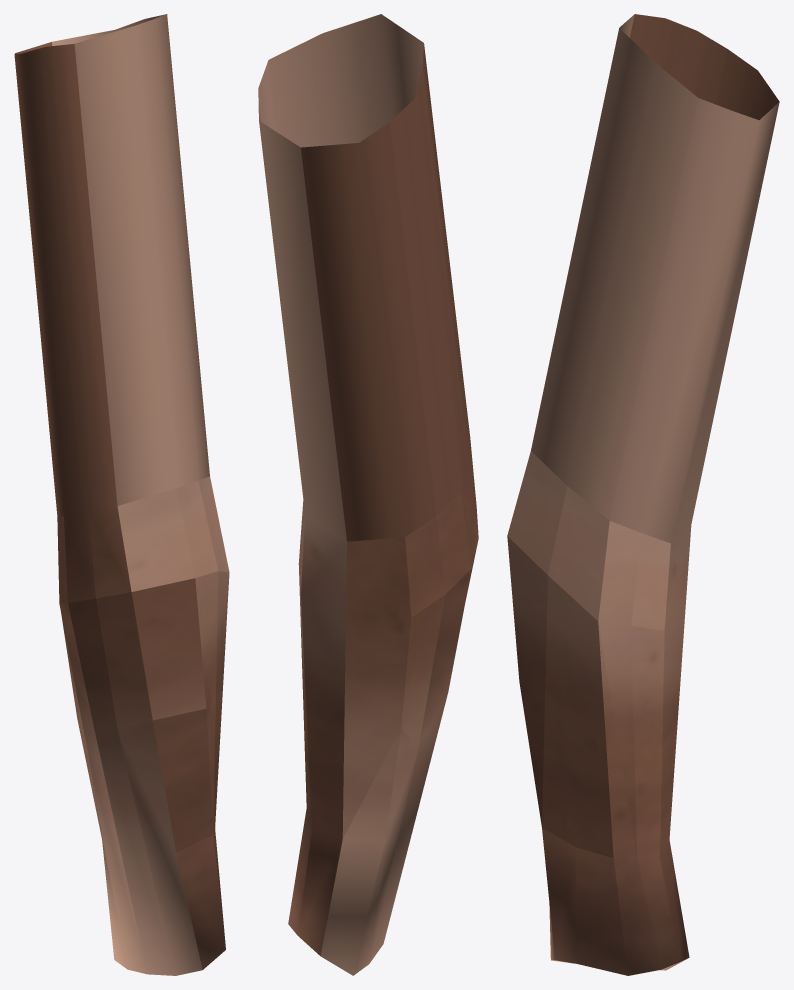
File: arm.fbx
3 views of the same model, side by side, from view 1: azimuth 30°, elevation 25°; view 2: azimuth 150°, elevation 25°; view 3: azimuth 270°, elevation 25° (orthographic).
Parts seen in each view (by area): view 1: Arm1; view 2: Arm1; view 3: Arm1.
Boxes of the visible parts, x1,y1,x2,y2 form: Arm1: [14, 14, 229, 975]; Arm1: [258, 14, 478, 975]; Arm1: [507, 14, 779, 975].
Bounding box in the file's own units: 7.9 × 43.87 × 11.51.
